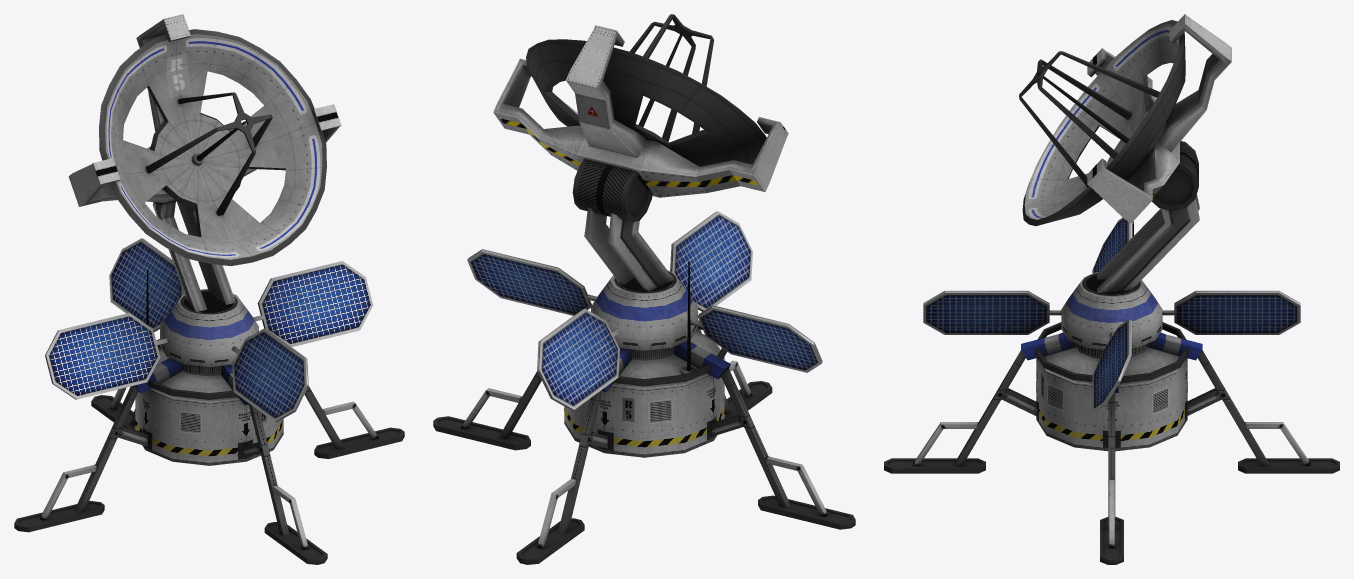
File: radio.DAE
The picture shows the model from 3 angles, left to right: view 1: azimuth 30°, elevation 25°; view 2: azimuth 150°, elevation 25°; view 3: azimuth 270°, elevation 25°; orthographic projection. The views are drawn at different scales.
Parts seen in each view (by area): view 1: satellite, solar_panels, body, legs, solar_panels001, mount, arm, Shape001; view 2: body, mount, satellite, legs, solar_panels001, solar_panels, arm, Shape001; view 3: body, satellite, legs, solar_panels001, mount, arm, solar_panels, Shape001.
Boxes of the visible parts, box(x1,y1,x2,y2) form: satellite: box(99, 29, 326, 265); solar_panels: box(45, 261, 373, 399); body: box(135, 288, 283, 465); legs: box(14, 346, 404, 564); solar_panels001: box(109, 238, 308, 422); mount: box(68, 14, 341, 206); arm: box(152, 200, 235, 311); Shape001: box(147, 339, 239, 399); body: box(564, 270, 724, 457); mount: box(493, 25, 788, 197); satellite: box(526, 14, 766, 166); legs: box(433, 312, 855, 564); solar_panels001: box(537, 211, 752, 410); solar_panels: box(467, 249, 822, 372); arm: box(572, 159, 674, 291); Shape001: box(612, 320, 726, 386); body: box(1036, 272, 1187, 451); satellite: box(1019, 20, 1185, 226); legs: box(884, 333, 1339, 564); solar_panels001: box(923, 290, 1300, 334); mount: box(1087, 14, 1231, 223); arm: box(1097, 141, 1199, 293); solar_panels: box(1092, 217, 1131, 412); Shape001: box(1035, 322, 1188, 383).
Size of the model in its own units: 1.14 by 1.14 by 1.24.
Materials: 1 (1 with a texture image).
